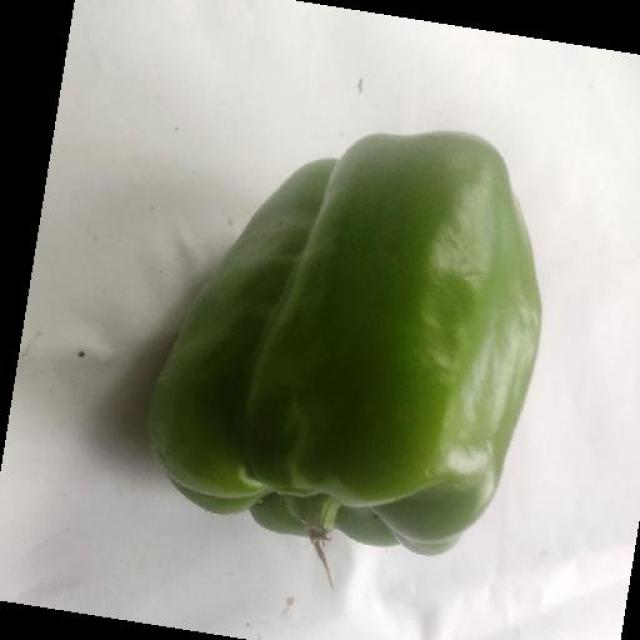Fresh_Capsicum: (269, 138, 493, 502)
